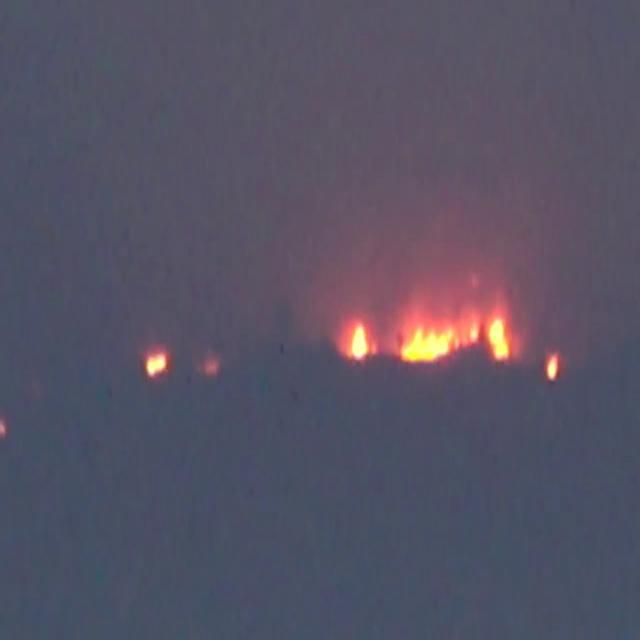Fire: (399, 319, 509, 364), (349, 322, 367, 357), (142, 356, 168, 378), (542, 352, 558, 379)
